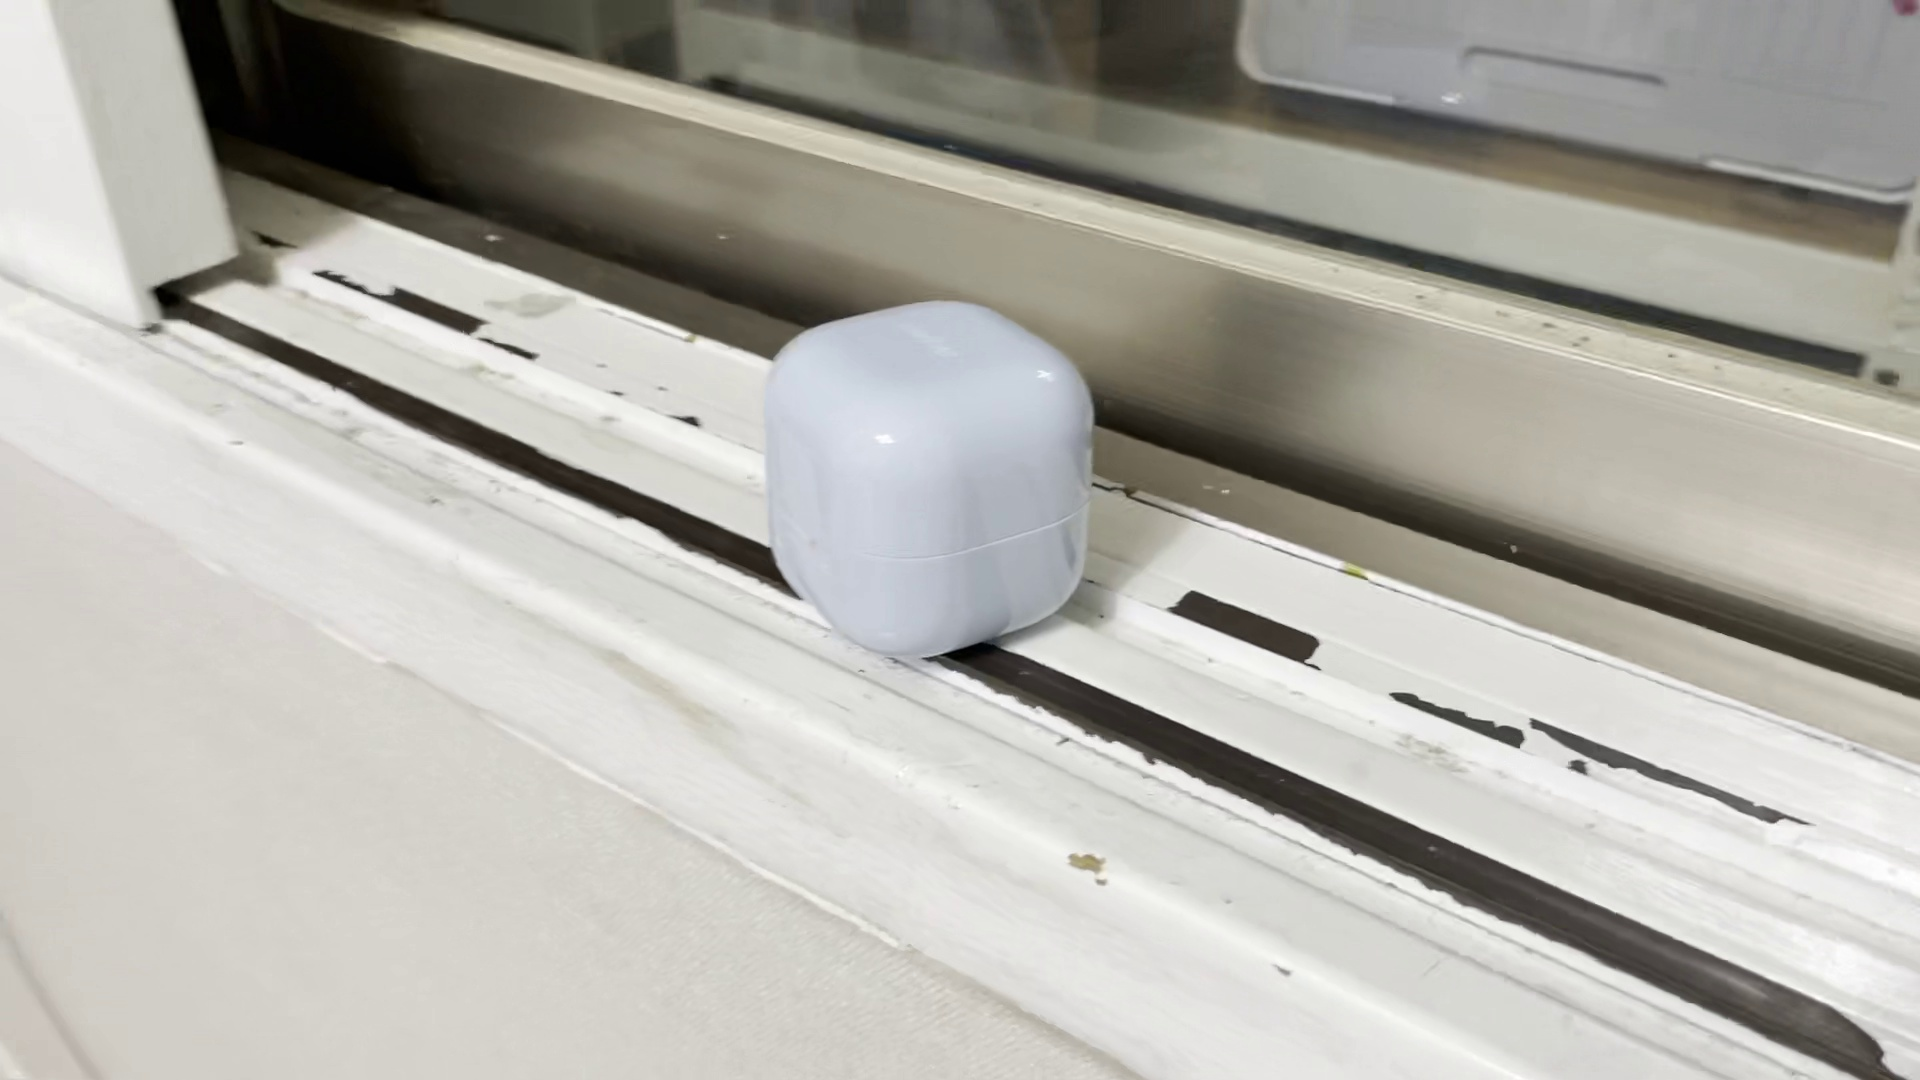cream: (773, 301, 1091, 651)
